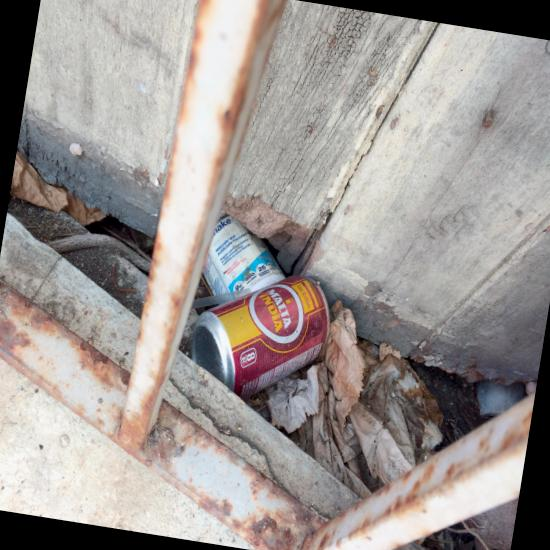Drink can: (101, 251, 191, 433)
Other plastic container: (182, 259, 248, 369)
Paper bag: (14, 357, 169, 510), (248, 0, 312, 127), (25, 466, 123, 528)
Plastic straw: (175, 247, 186, 325)
